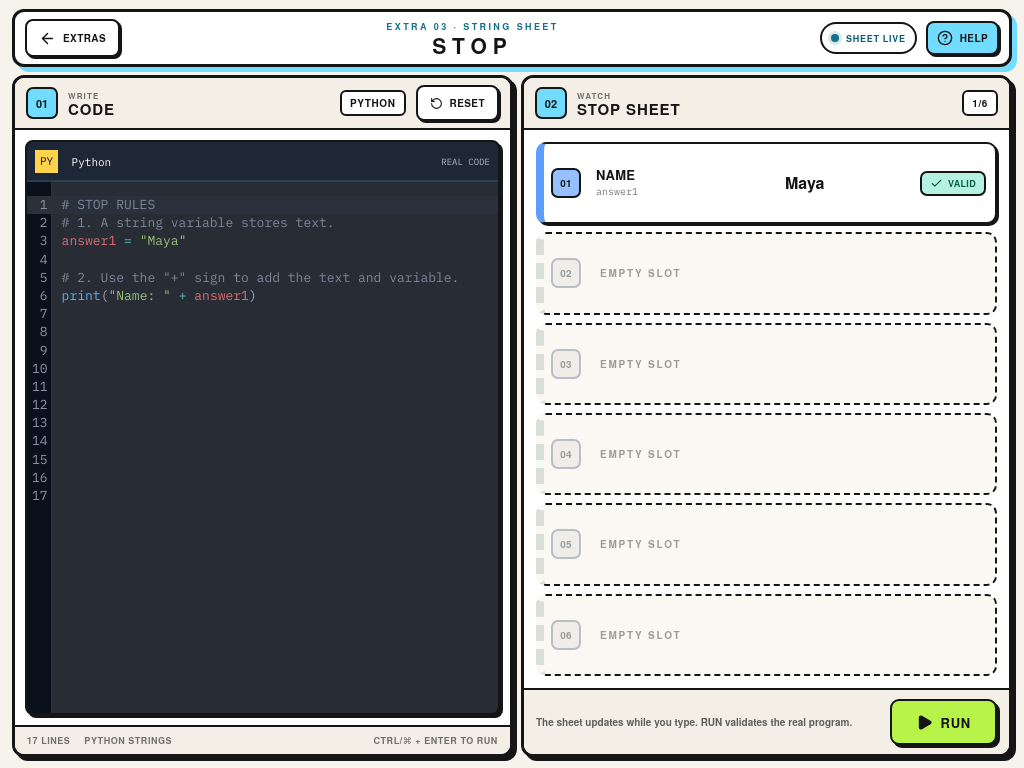
Scenario: STOP string sheet › runs safely, shows a validation banner and reacts to the board
The width and height of the screenshot is (1024, 768).
Click the button "RUN". click: [943, 722]
box: 890,699 -> 997,745
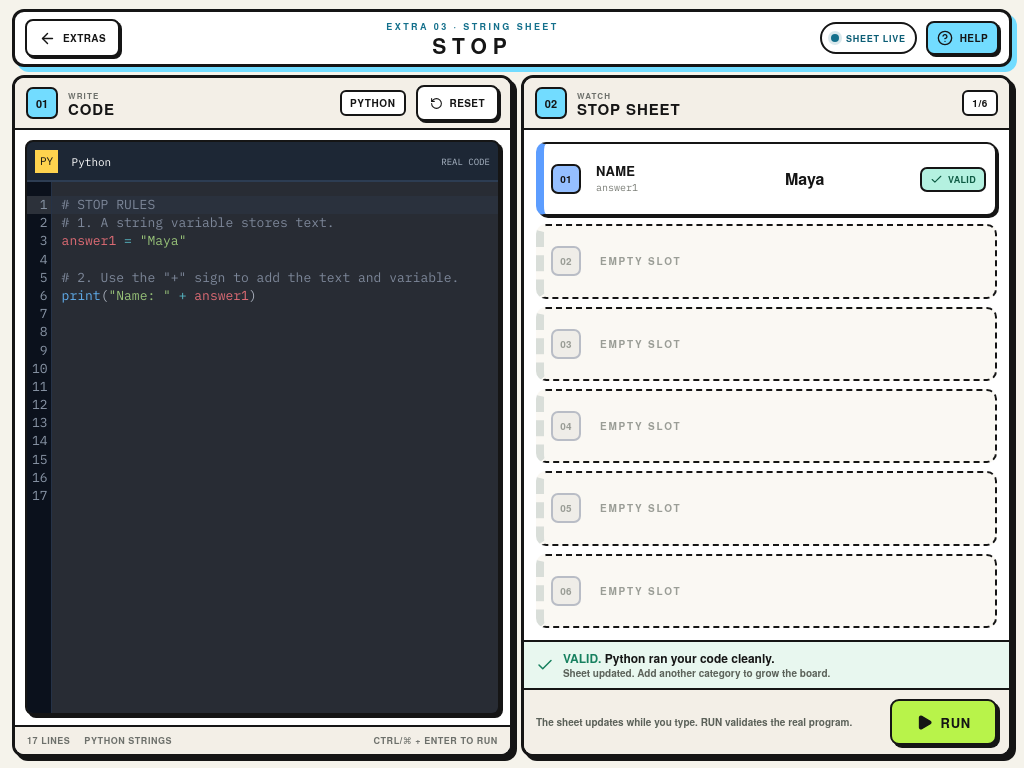
Expected: the text "Python ran your code cleanly." is shown, 605,649 -> 775,667
Expected: the text "Sheet updated. Add another category to grow the board." is shown, 563,666 -> 830,680
